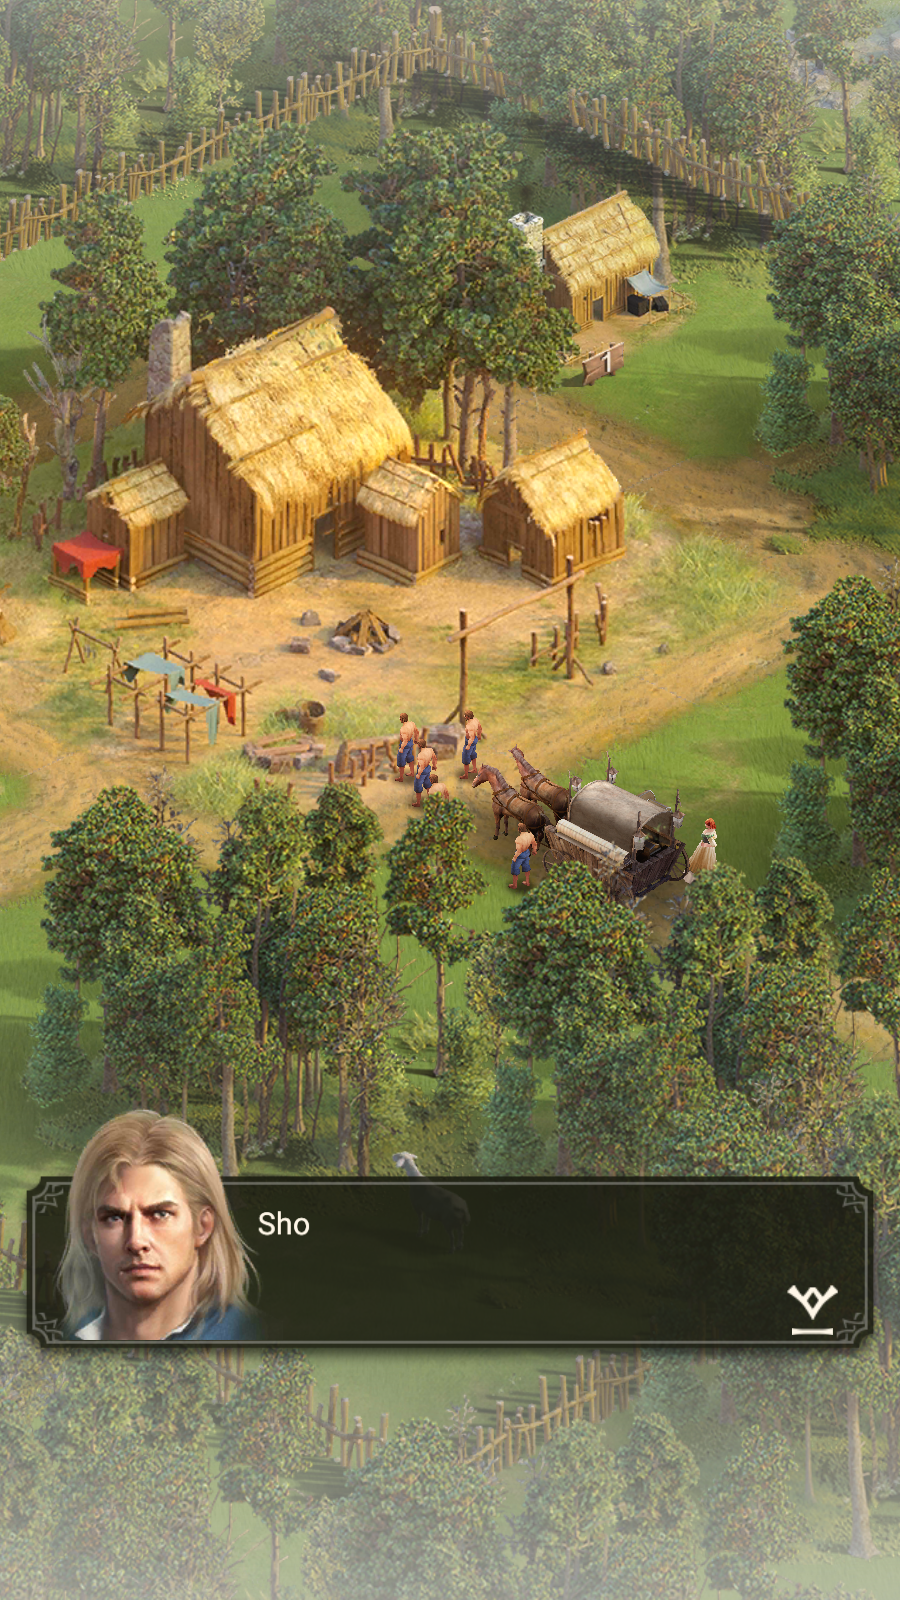button: (781, 1278, 843, 1340)
fire: (321, 604, 397, 654)
house: (152, 315, 408, 579), (479, 440, 629, 581), (544, 181, 663, 320), (354, 445, 468, 572)
person: (447, 702, 492, 777), (390, 709, 426, 786), (506, 811, 535, 893)
trees: (271, 800, 467, 1160), (64, 780, 255, 1099), (397, 96, 551, 442), (757, 153, 900, 481), (775, 591, 900, 959), (529, 894, 683, 1160), (704, 955, 877, 1140), (173, 115, 348, 294), (45, 174, 146, 459)
